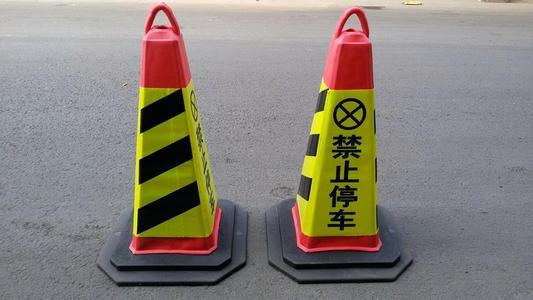cone_barrel: (111, 1, 237, 264), (271, 12, 395, 260)
